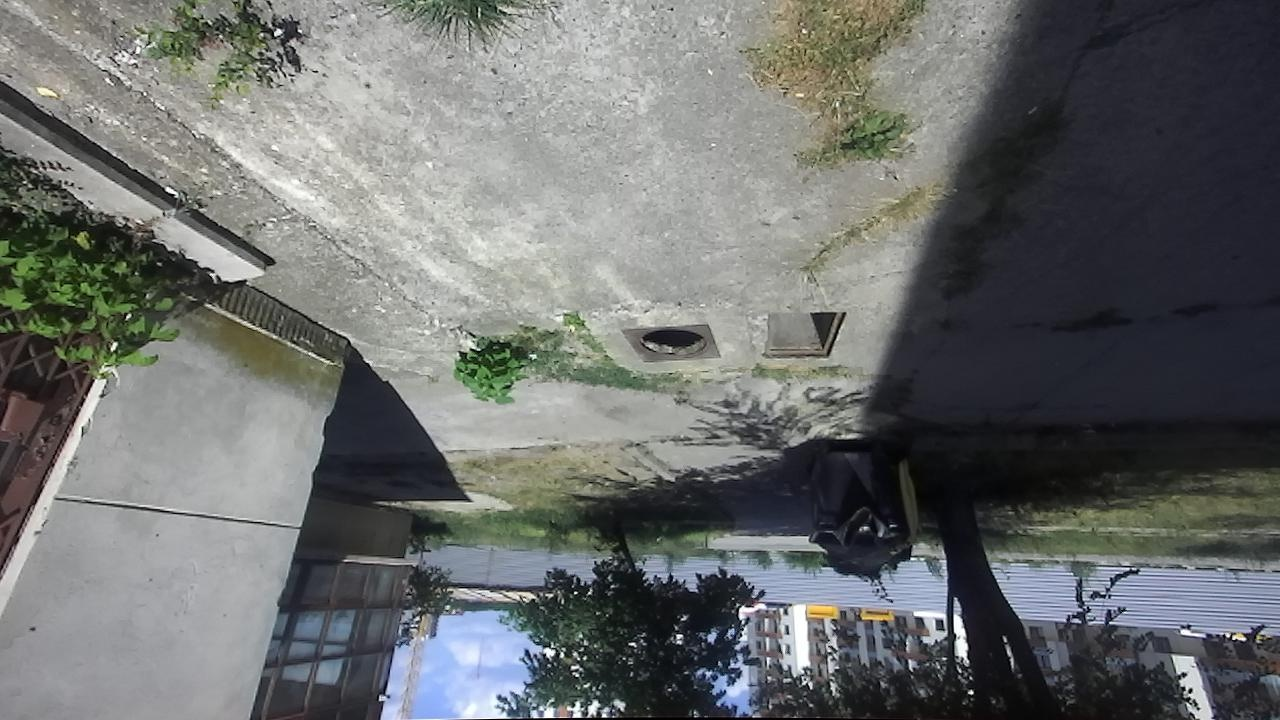drain: (758, 311, 847, 363), (634, 325, 711, 360)
